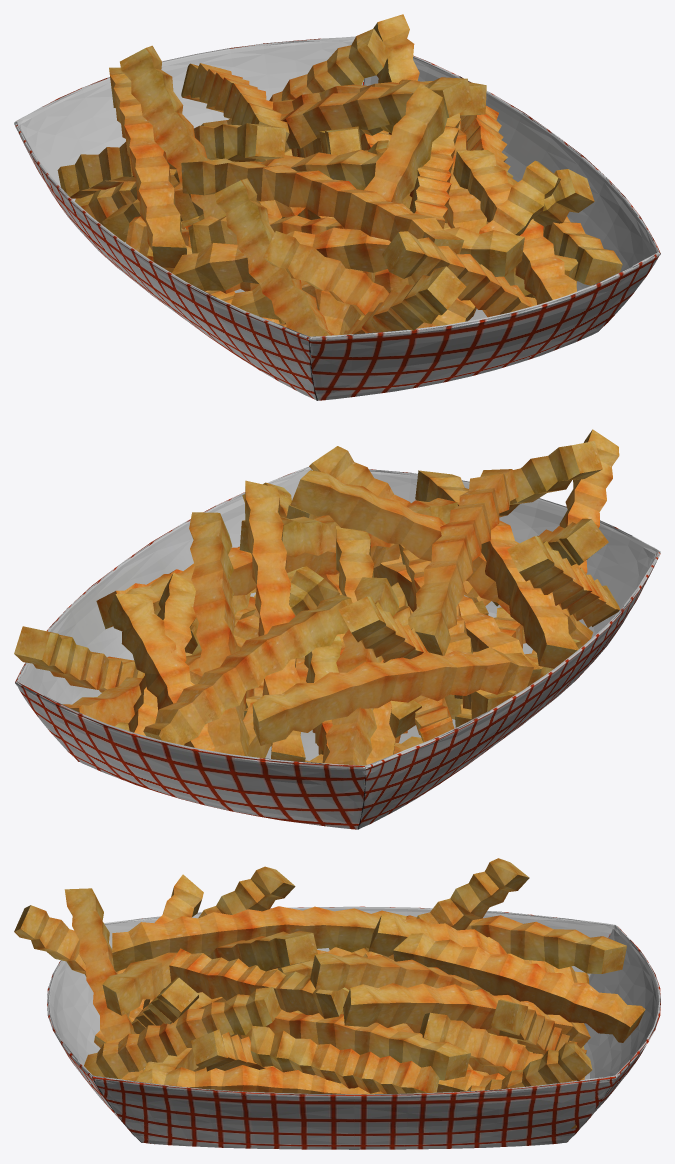
Rendered from frenchfries.gltf.
The picture shows the model from 3 angles, top to bottom: view 1: azimuth 30°, elevation 25°; view 2: azimuth 150°, elevation 25°; view 3: azimuth 270°, elevation 25°; orthographic projection. The views are drawn at different scales.
Bounding box in the file's own units: 1.73 × 0.7587 × 2.5.
Materials: 1 (1 with a texture image).
